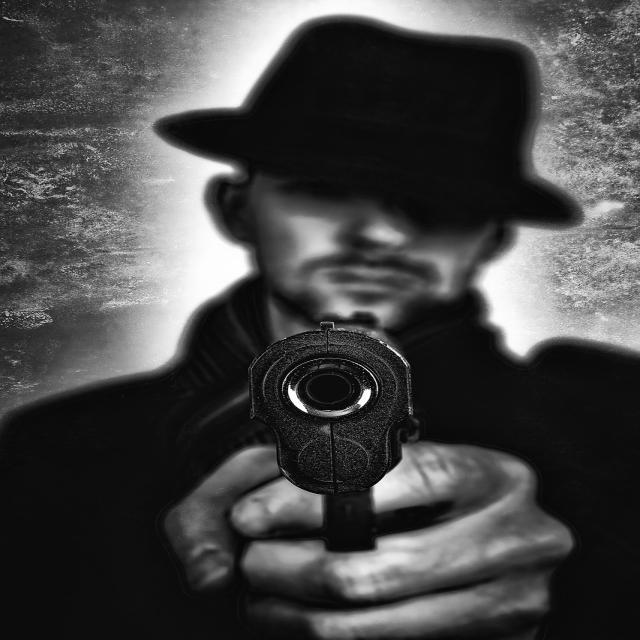Gun: (249, 322, 415, 551)
